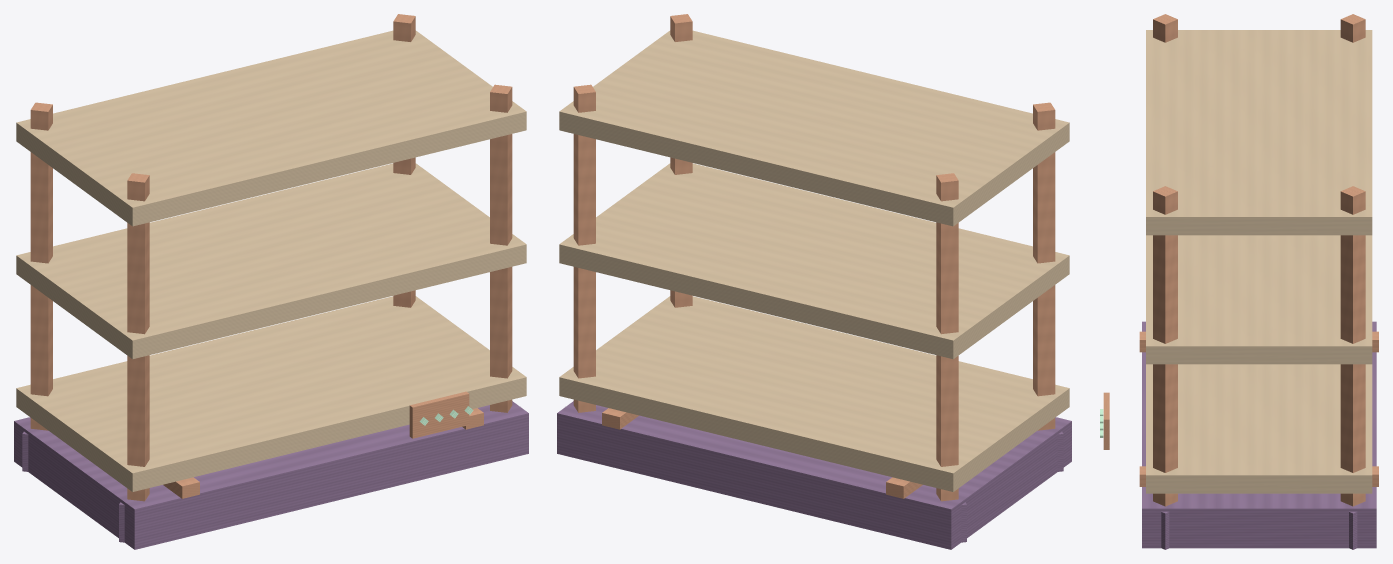
Rendered from atlas100-s089-a06.glb.
3 renders of one model, left to right at view 1: azimuth 30°, elevation 25°; view 2: azimuth 150°, elevation 25°; view 3: azimuth 270°, elevation 25°, orthographic. The views are drawn at different scales.
Parts seen in each view (by area): view 1: atlas100-s089-a06:part-013, atlas100-s089-a06:part-012, atlas100-s089-a06:part-011, atlas100-s089-a06:part-000, atlas100-s089-a06:part-005, atlas100-s089-a06:part-009, atlas100-s089-a06:part-003, atlas100-s089-a06:part-014, atlas100-s089-a06:part-007; view 2: atlas100-s089-a06:part-013, atlas100-s089-a06:part-011, atlas100-s089-a06:part-012, atlas100-s089-a06:part-000, atlas100-s089-a06:part-003, atlas100-s089-a06:part-007, atlas100-s089-a06:part-005, atlas100-s089-a06:part-009; view 3: atlas100-s089-a06:part-013, atlas100-s089-a06:part-012, atlas100-s089-a06:part-011, atlas100-s089-a06:part-000, atlas100-s089-a06:part-007, atlas100-s089-a06:part-009, atlas100-s089-a06:part-003, atlas100-s089-a06:part-005, atlas100-s089-a06:part-014.
Part boxes in pixels (x1=…): atlas100-s089-a06:part-013: x1=16, y1=30, x2=526, y2=226; atlas100-s089-a06:part-012: x1=16, y1=163, x2=526, y2=359; atlas100-s089-a06:part-011: x1=16, y1=296, x2=526, y2=491; atlas100-s089-a06:part-000: x1=14, y1=401, x2=528, y2=549; atlas100-s089-a06:part-005: x1=127, y1=173, x2=149, y2=501; atlas100-s089-a06:part-009: x1=490, y1=84, x2=512, y2=412; atlas100-s089-a06:part-003: x1=30, y1=102, x2=52, y2=430; atlas100-s089-a06:part-014: x1=409, y1=391, x2=469, y2=438; atlas100-s089-a06:part-007: x1=393, y1=14, x2=415, y2=307; atlas100-s089-a06:part-013: x1=559, y1=30, x2=1069, y2=226; atlas100-s089-a06:part-011: x1=559, y1=296, x2=1069, y2=491; atlas100-s089-a06:part-012: x1=559, y1=163, x2=1069, y2=359; atlas100-s089-a06:part-000: x1=557, y1=401, x2=1071, y2=549; atlas100-s089-a06:part-003: x1=936, y1=173, x2=958, y2=501; atlas100-s089-a06:part-007: x1=573, y1=84, x2=595, y2=412; atlas100-s089-a06:part-005: x1=1033, y1=102, x2=1055, y2=430; atlas100-s089-a06:part-009: x1=670, y1=14, x2=692, y2=307; atlas100-s089-a06:part-013: x1=1146, y1=30, x2=1372, y2=235; atlas100-s089-a06:part-012: x1=1146, y1=235, x2=1372, y2=364; atlas100-s089-a06:part-011: x1=1146, y1=364, x2=1372, y2=493; atlas100-s089-a06:part-000: x1=1142, y1=321, x2=1376, y2=548; atlas100-s089-a06:part-007: x1=1340, y1=186, x2=1365, y2=506; atlas100-s089-a06:part-009: x1=1153, y1=186, x2=1177, y2=506; atlas100-s089-a06:part-003: x1=1340, y1=14, x2=1365, y2=42; atlas100-s089-a06:part-005: x1=1153, y1=14, x2=1177, y2=42; atlas100-s089-a06:part-014: x1=1103, y1=392, x2=1109, y2=449.
Bounding box in the file's own units: 2.69 × 2.3 × 1.66.
Materials: 4 (4 with a texture image).
